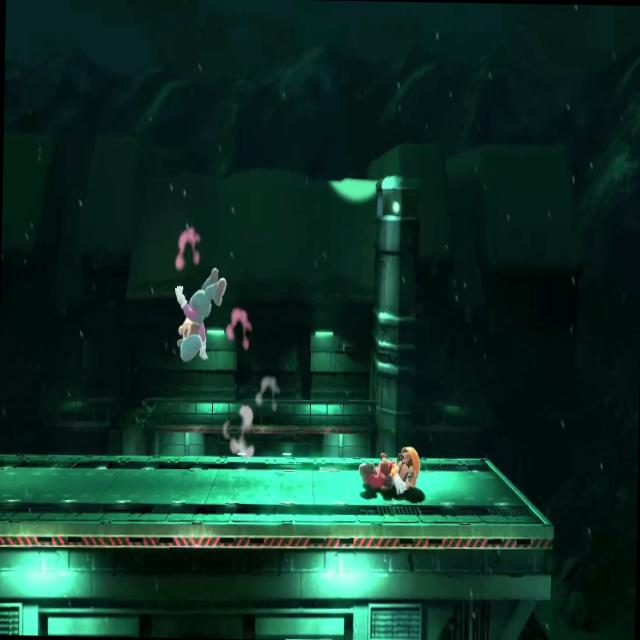Mario: (170, 257, 227, 366), (352, 438, 423, 504)
